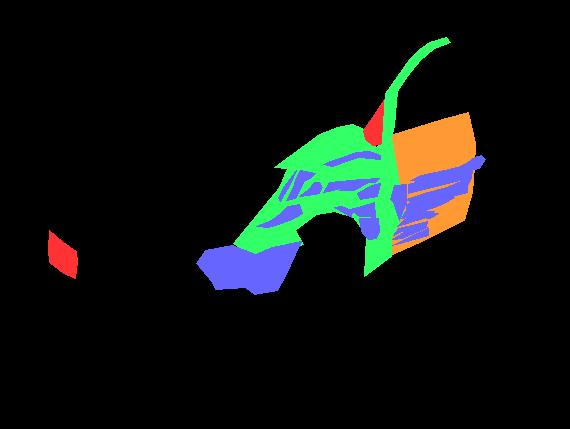Broken part: (233, 124, 403, 276), (381, 37, 450, 172)
Missing part: (363, 89, 391, 145), (48, 230, 77, 278)
Paint chip: (381, 112, 475, 255)
Scratch: (196, 241, 301, 294), (410, 155, 485, 181), (406, 177, 471, 202), (408, 170, 472, 193), (406, 186, 467, 210), (401, 197, 454, 218), (256, 204, 302, 227), (323, 151, 388, 166), (286, 170, 315, 200), (323, 178, 379, 192), (392, 228, 428, 245), (390, 184, 406, 220), (278, 170, 296, 201), (397, 211, 434, 226), (393, 221, 427, 235), (392, 227, 427, 239), (359, 218, 379, 239), (349, 202, 375, 217), (357, 183, 380, 199), (299, 182, 322, 196), (334, 206, 352, 217), (339, 183, 366, 190), (426, 213, 438, 218)
